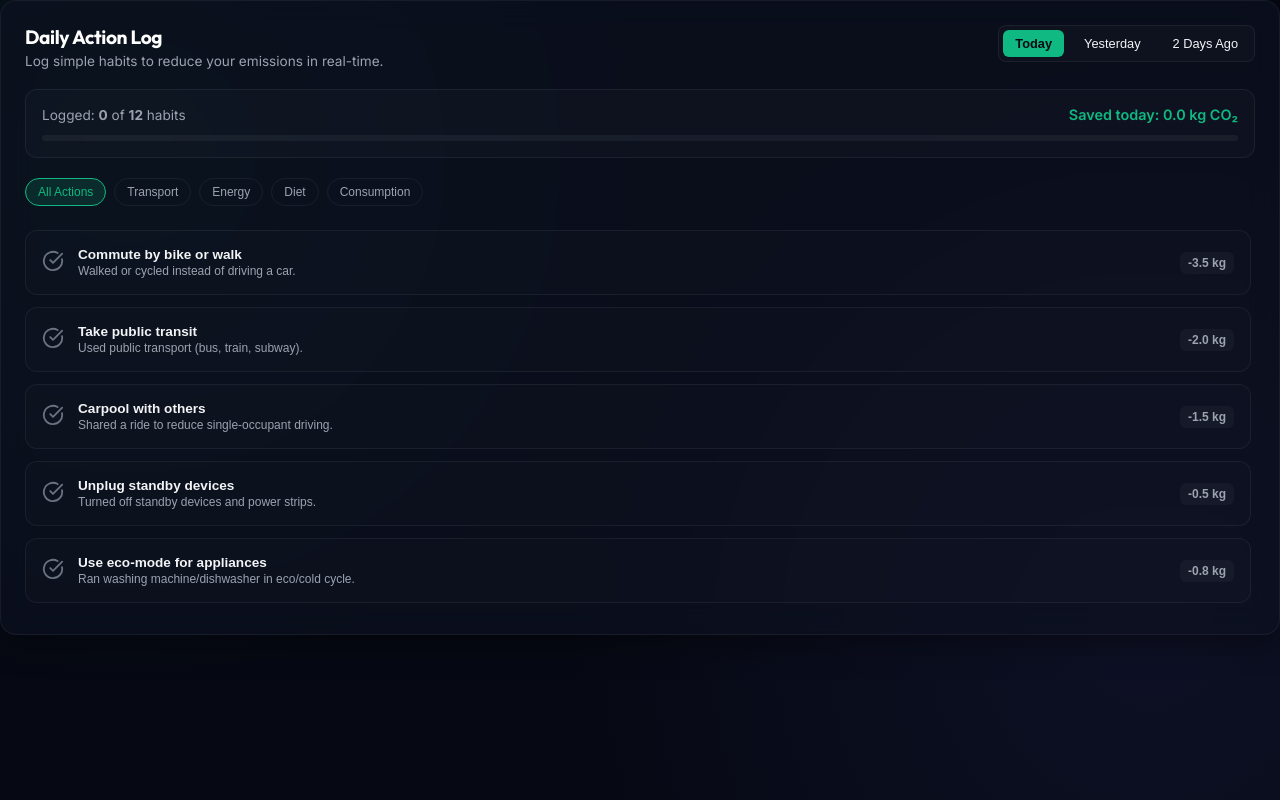
DailyHabitTracker Component › allows logging habits on past dates separately
// Toggle today's bike habit
Step 1. Click the checkbox labelled "Commute by bike or walk" → click(160, 254), box [25,230,1251,295]
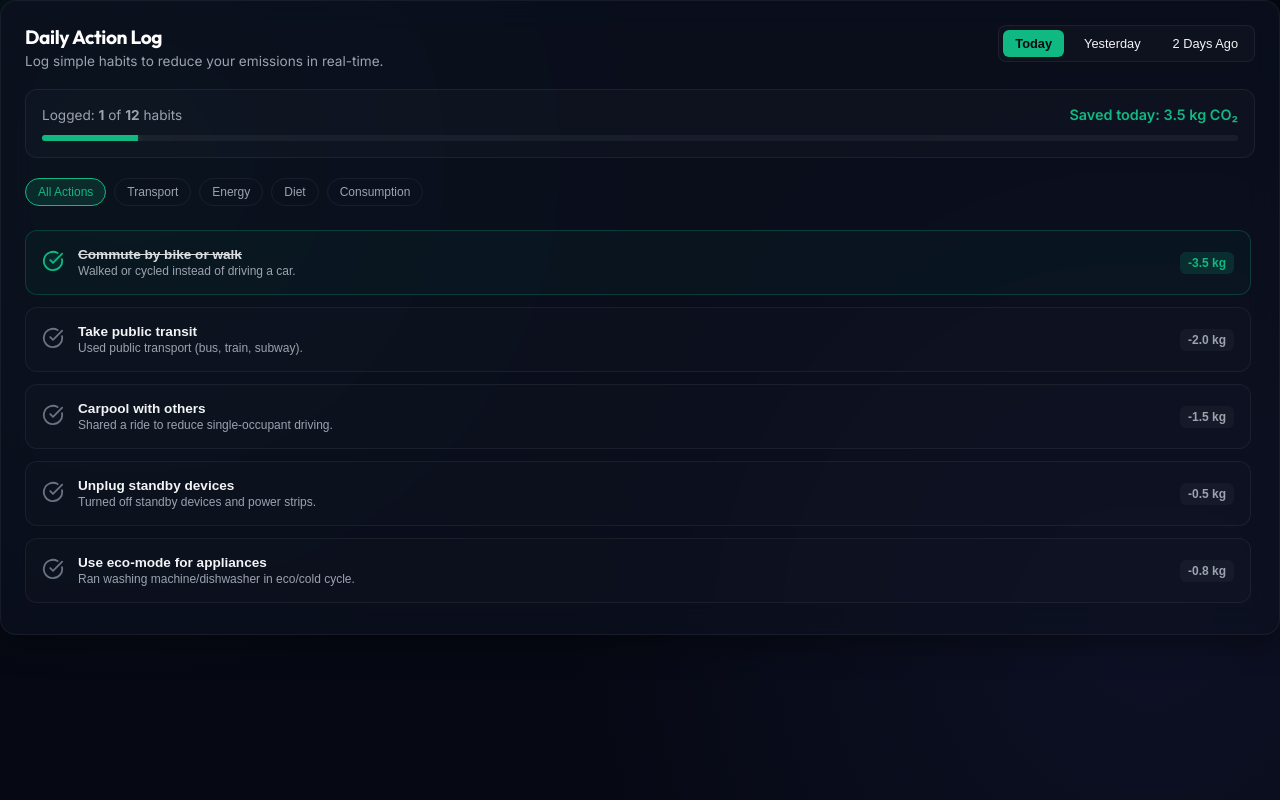
Check: the text "Saved today: 3.5 kg CO₂" is shown, box [1070,106,1238,123]
// Switch to Yesterday tab
Step 2. Click the tab "Yesterday" → click(1112, 44), box [1072,30,1153,57]
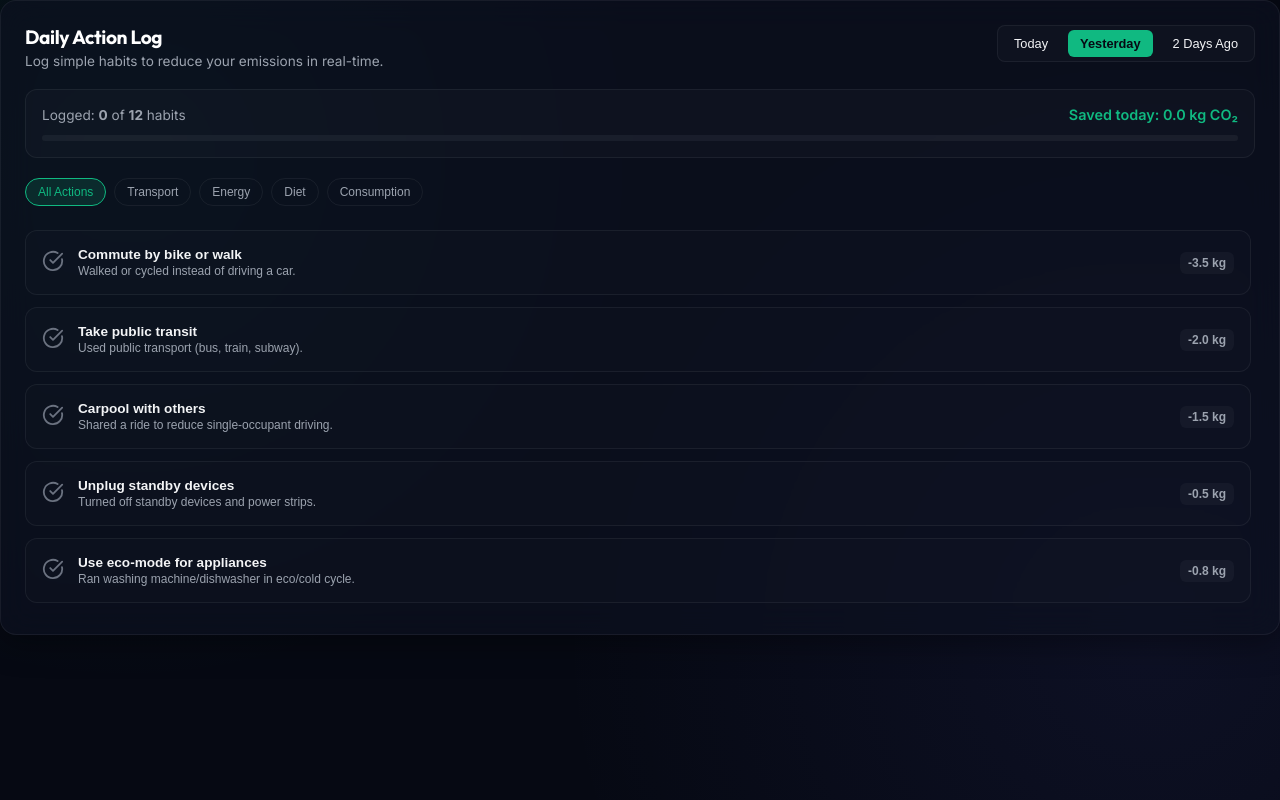
Check: the text "Saved today: 0.0 kg CO₂" is shown, box [1069,106,1238,123]
// Toggle transit habit yesterday
Step 3. Click the checkbox labelled "Take public transit" → click(138, 332), box [25,307,1251,372]
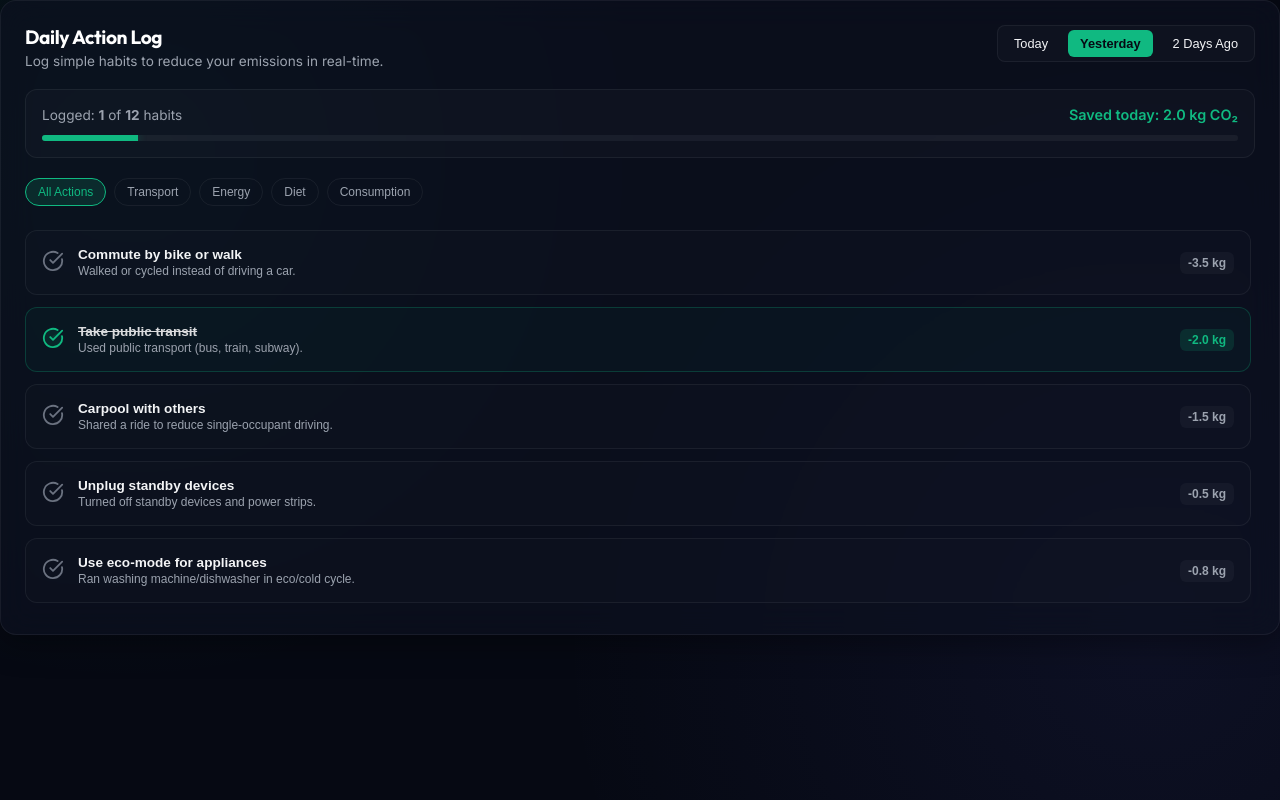
Check: the text "Saved today: 2.0 kg CO₂" is shown, box [1069,106,1238,123]
// Switch back to Today tab and verify bike is still completed
Step 4. Click the tab "Today" → click(1031, 44), box [1002,30,1060,57]
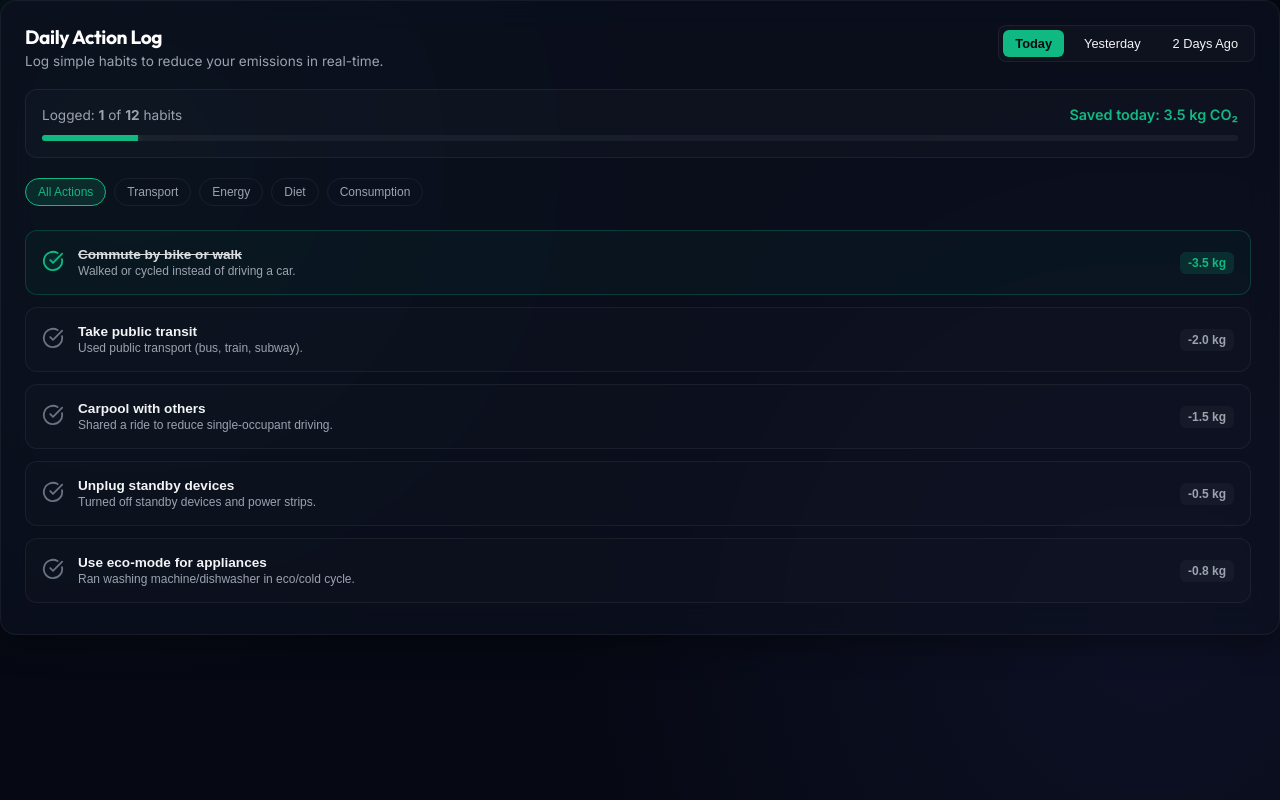
Check: the text "Saved today: 3.5 kg CO₂" is shown, box [1070,106,1238,123]
